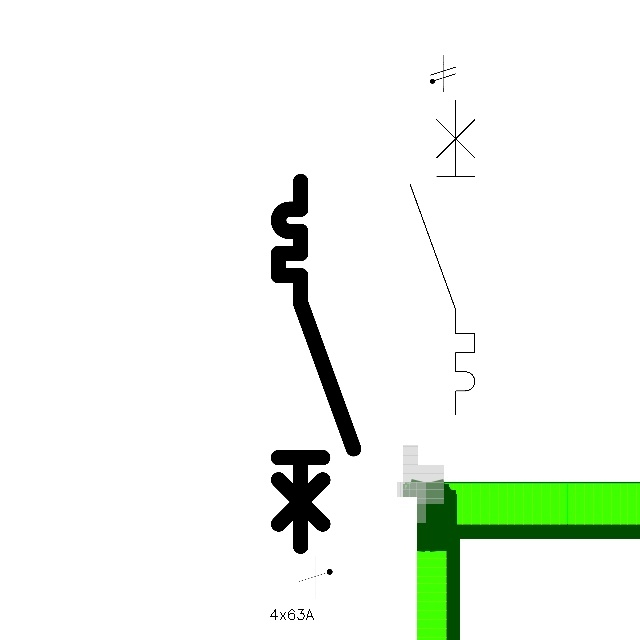interruptor_termomagnetico: (269, 172, 363, 555), (402, 92, 483, 423)
